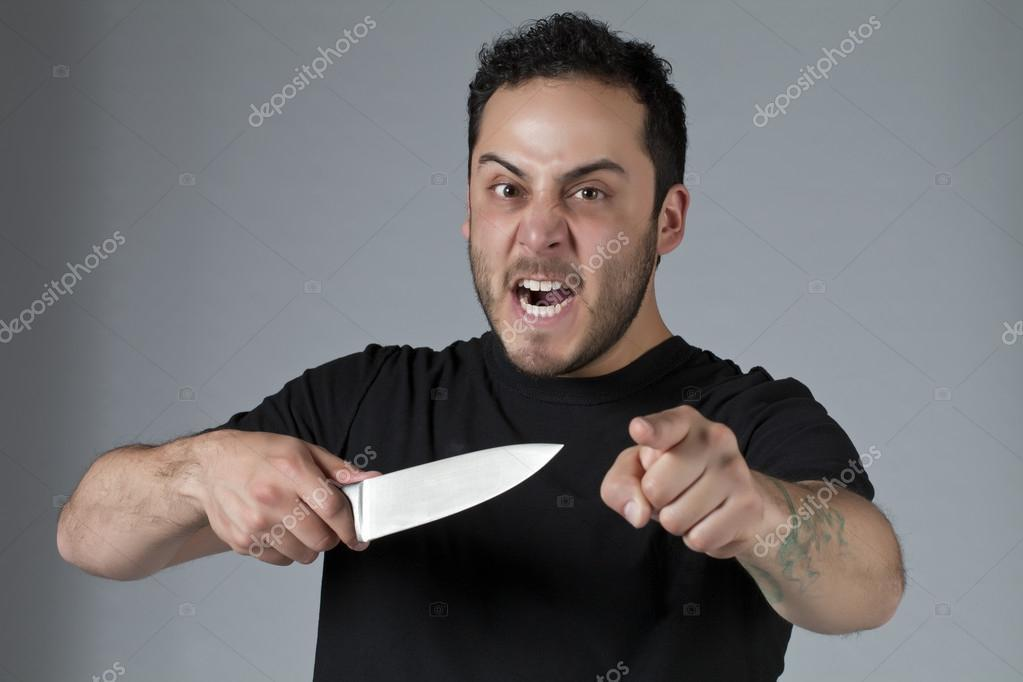Knife: (59, 15, 901, 682), (353, 440, 567, 554), (204, 431, 375, 566)
